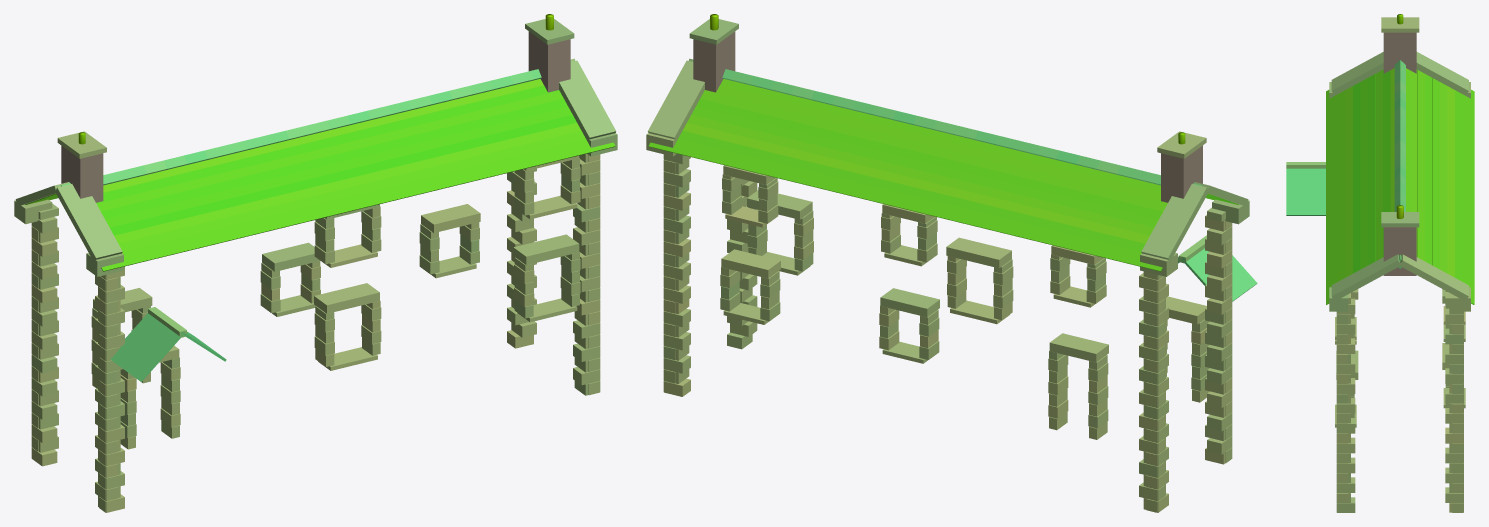
File: SM_Bld_110_Stone.glb
The picture shows the model from 3 angles, left to right: view 1: azimuth 30°, elevation 25°; view 2: azimuth 150°, elevation 25°; view 3: azimuth 270°, elevation 25°; orthographic projection. The views are drawn at different scales.
Parts seen in each view (by area): view 1: SM_Bld_110_Stone; view 2: SM_Bld_110_Stone; view 3: SM_Bld_110_Stone.
Part boxes in pixels (bbox=[...]): SM_Bld_110_Stone: bbox=[14, 14, 617, 512]; SM_Bld_110_Stone: bbox=[646, 14, 1257, 512]; SM_Bld_110_Stone: bbox=[1286, 14, 1474, 512].
Bounding box in the file's own units: 14.03 × 9.09 × 5.15.
